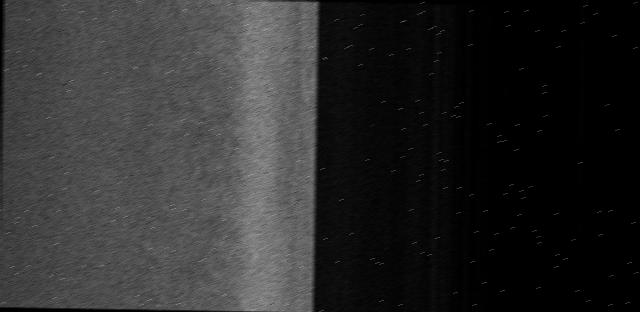silk_spot: (158, 64, 263, 300)
